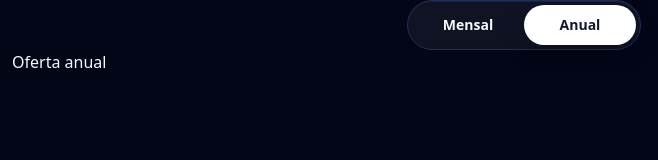
BillingCycleSelector › alterna entre ofertas mensais e anuais
This screenshot has width=658, height=160.
expect the text "Oferta anual" is shown: met, box top-left (12, 51), bottom-right (106, 73)
expect the text "Oferta mensal" is not shown: met
Click the radio button labelled "Mensal": (468, 25) top-left (412, 5), bottom-right (524, 45)
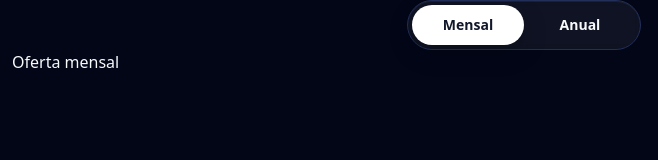
expect the text "Oferta mensal" is shown: met, box top-left (12, 51), bottom-right (119, 73)
expect the text "Oferta anual" is gone: met
